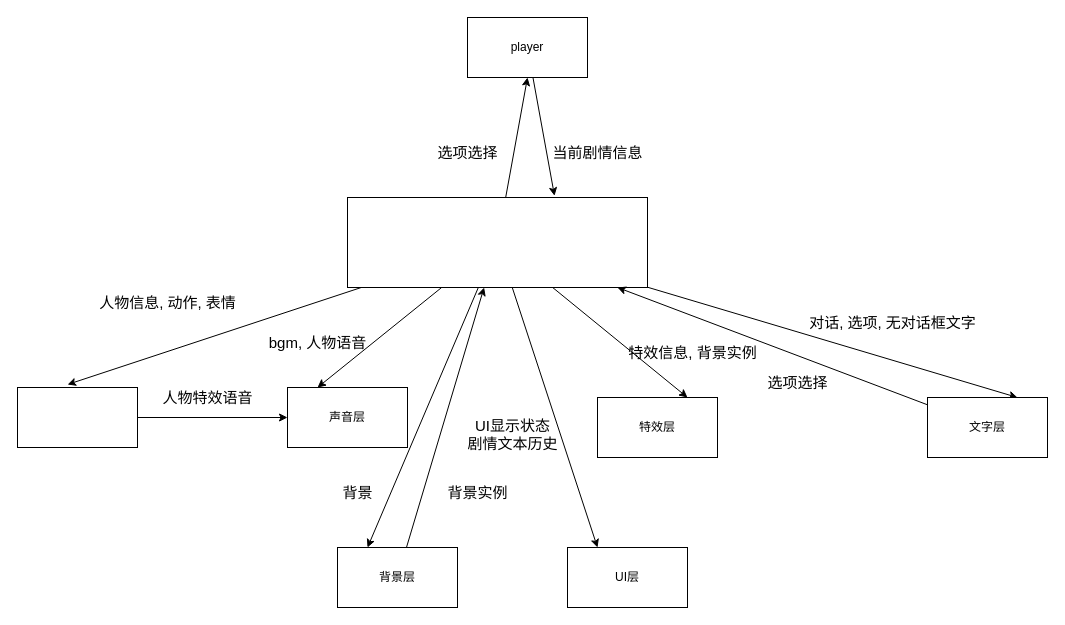
Some shapes in this 1065 by 625 pixel diagram are drawn without their labels. The centre of each missing label's shape, as x and y in pixels:
"pinia" goes at pixel 497 242.
"人物层" goes at pixel 77 417.
